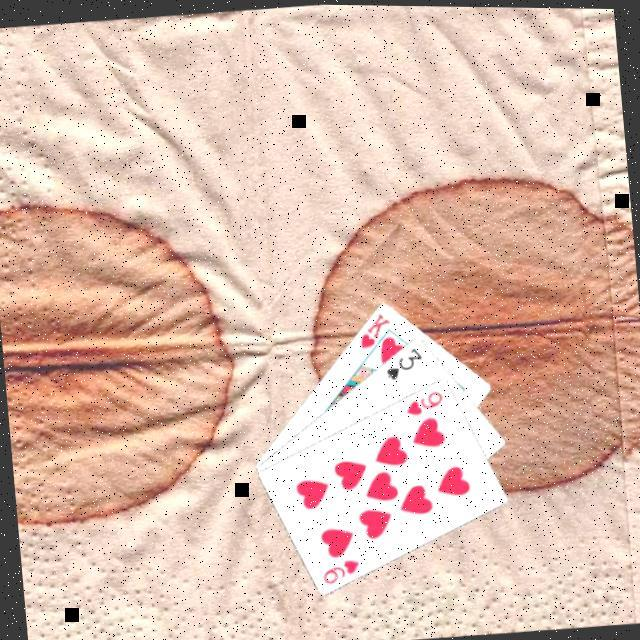3S: (381, 341, 427, 384)
9H: (402, 385, 447, 419), (319, 554, 364, 588)
KH: (354, 308, 396, 351)
